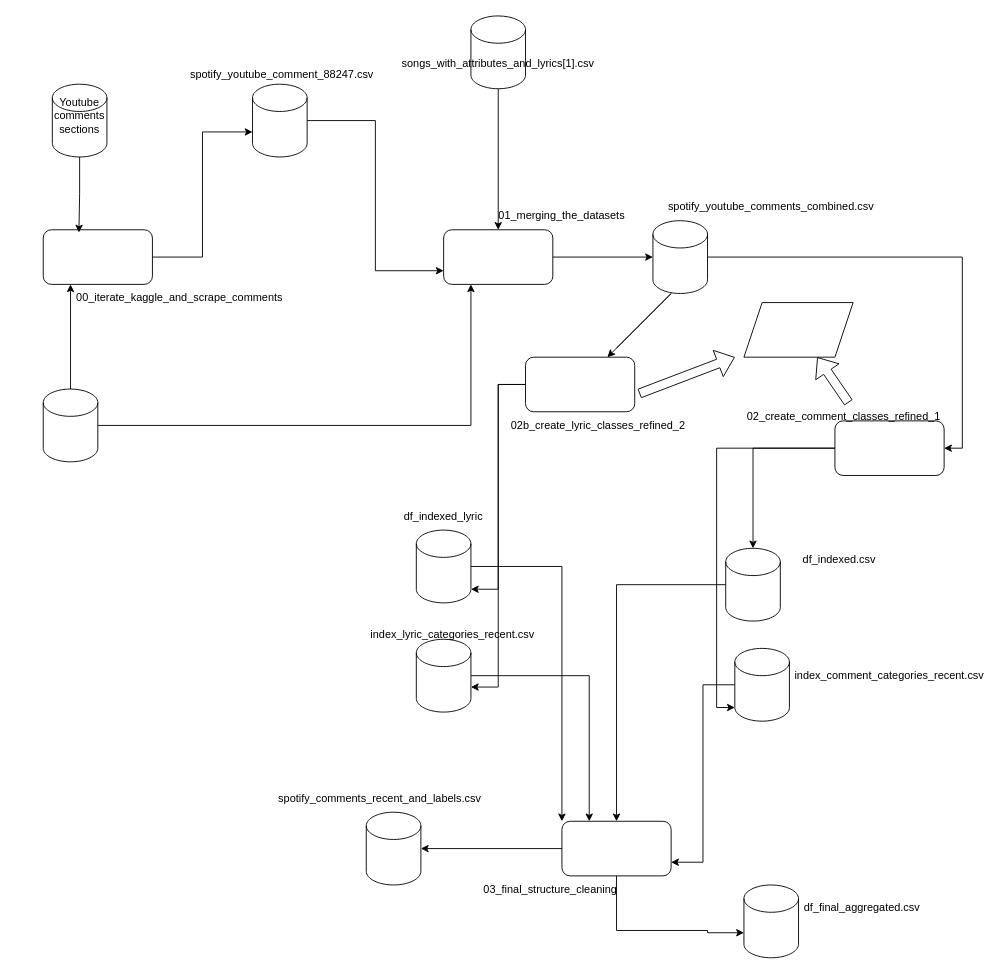
The diagram is 999 pixels wide and 974 high, and some of its shapes have lost their labels. Each missing label, with the box of its shape:
ChatGPT-3.5: (743, 302, 853, 357)
Spotify_Youtube.csv: (42, 388, 98, 462)
